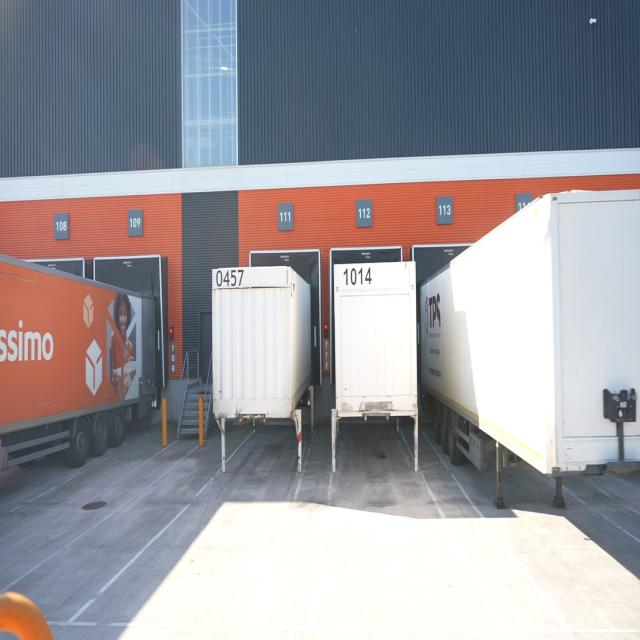Code: (338, 262, 374, 290), (213, 264, 245, 291)
